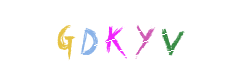D: (64, 0, 144, 80)
G: (25, 0, 105, 80)
K: (77, 0, 157, 80)
V: (131, 0, 211, 80)
Y: (85, 0, 165, 80)
